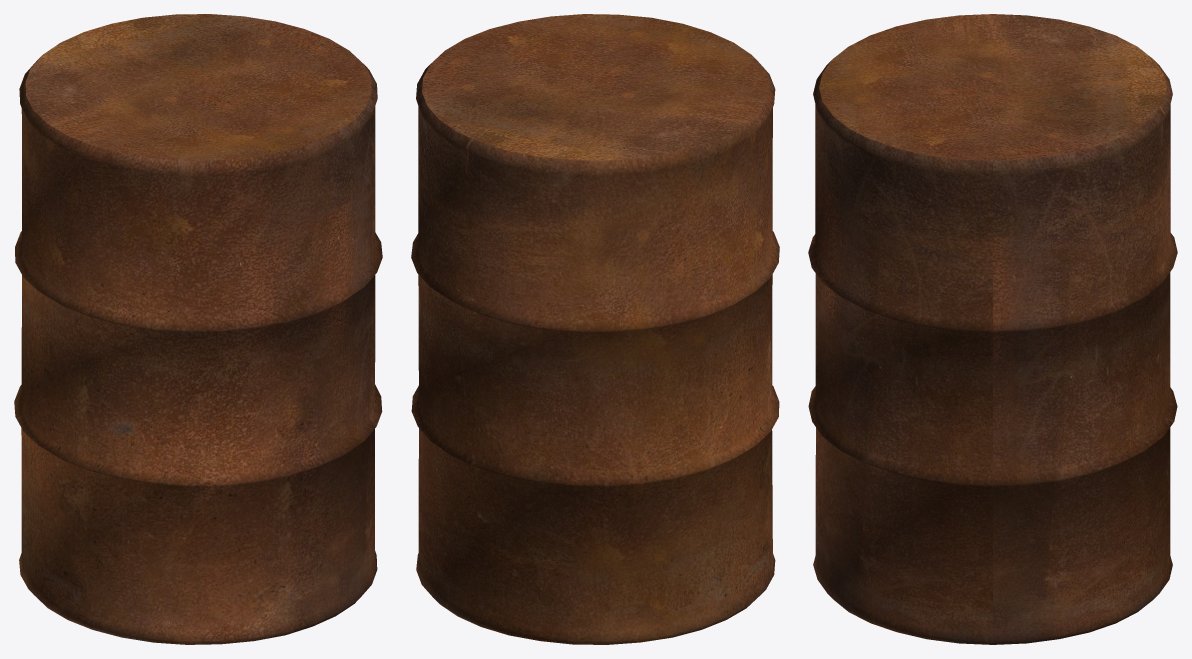
Rendered from varil_pasli.gltf.
The picture shows the model from 3 angles, left to right: view 1: azimuth 30°, elevation 25°; view 2: azimuth 150°, elevation 25°; view 3: azimuth 270°, elevation 25°; orthographic projection.
Parts seen in each view (by area): view 1: varil_pasli; view 2: varil_pasli; view 3: varil_pasli.
Part boxes in pixels (x1=…): varil_pasli: x1=14, y1=14, x2=382, y2=644; varil_pasli: x1=411, y1=14, x2=779, y2=644; varil_pasli: x1=808, y1=14, x2=1177, y2=644.
Size of what is drawn, in the model's own units: 0.6089 by 0.88 by 0.609.
Materials: 1 (1 with a texture image).
